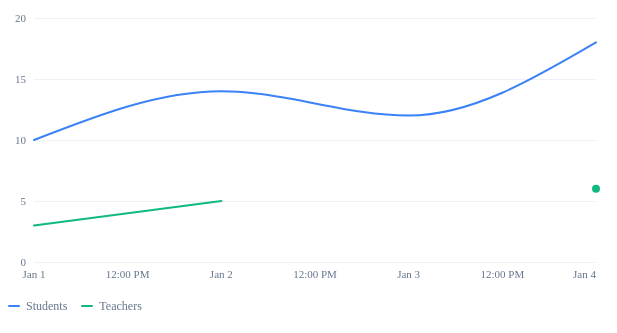
LineChart › toggles series from the legend (uncontrolled and controlled)
Click the button "Teachers" at (112, 306), box [77, 296, 146, 317]
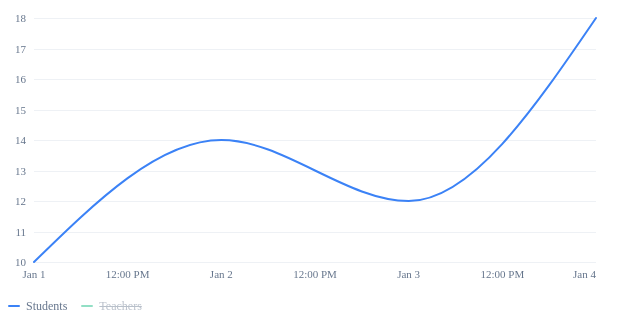
Expected: the button "Students" is disabled, [4, 296, 71, 317]
Now the button "Teachers" is not pressed, box [77, 296, 146, 317]
